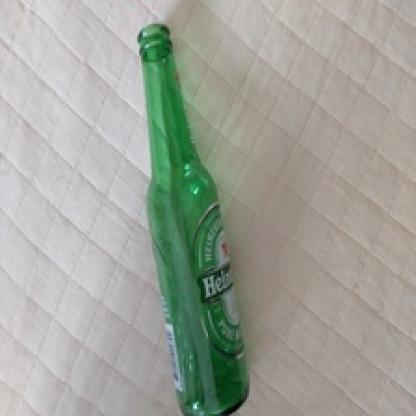Can: (125, 17, 261, 416)
